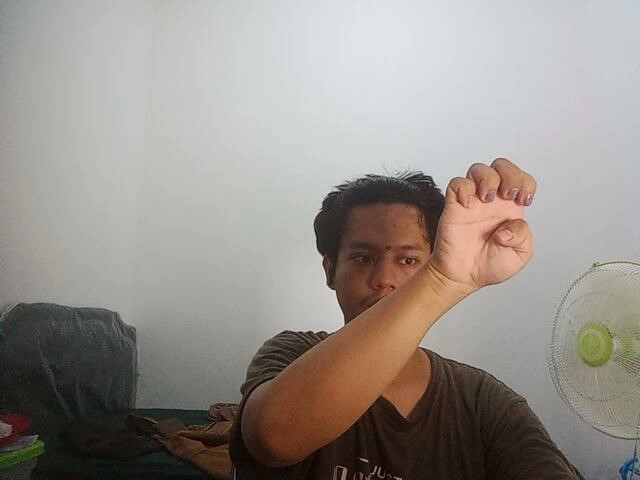E: (432, 148, 549, 294)
